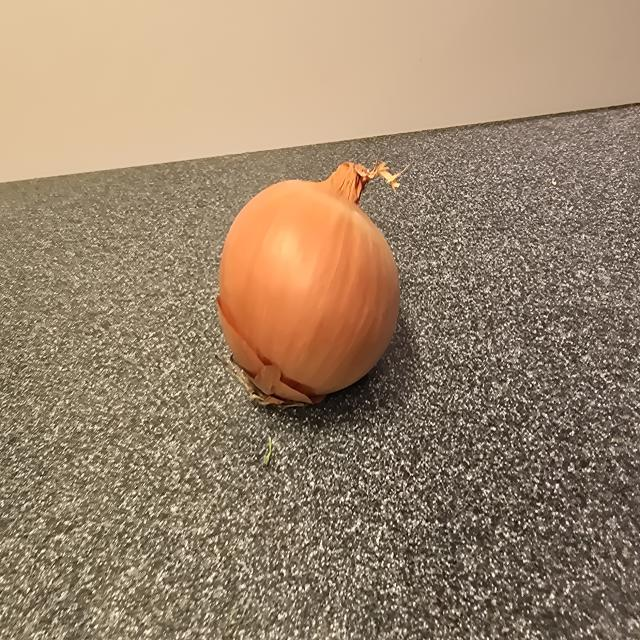Onion: (218, 162, 400, 406)
